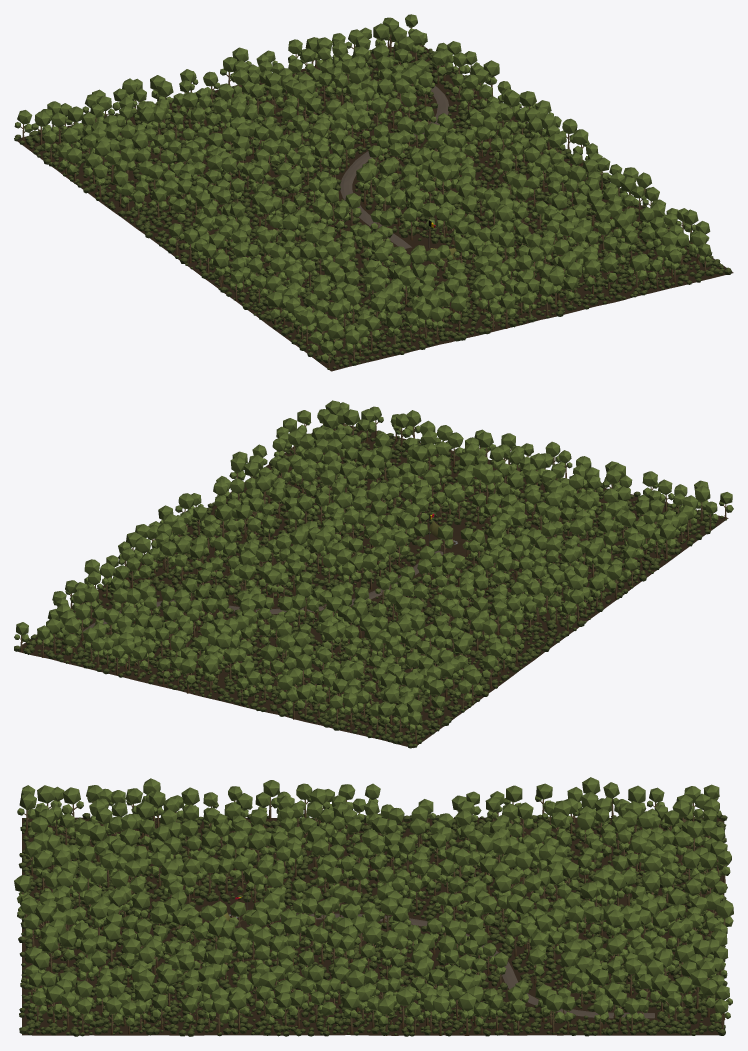
File: assets.glb
3 views of the same model, one above another, from view 1: azimuth 30°, elevation 25°; view 2: azimuth 150°, elevation 25°; view 3: azimuth 270°, elevation 25° (orthographic). The views are drawn at different scales.
Visible parts, largest first — view 1: GEO.Camp.Ground, GEO.Path.Camp; view 2: GEO.Camp.Ground; view 3: GEO.Camp.Ground, GEO.Path.Camp.
Boxes of the visible parts, x1,y1,x2,y2 form: GEO.Camp.Ground: (14,14,733,371); GEO.Path.Camp: (340,86,449,248); GEO.Camp.Ground: (14,400,733,748); GEO.Camp.Ground: (14,777,733,1036); GEO.Path.Camp: (280,913,654,1018).
Bounding box in the file's own units: 45.76 × 4.2 × 61.49.
